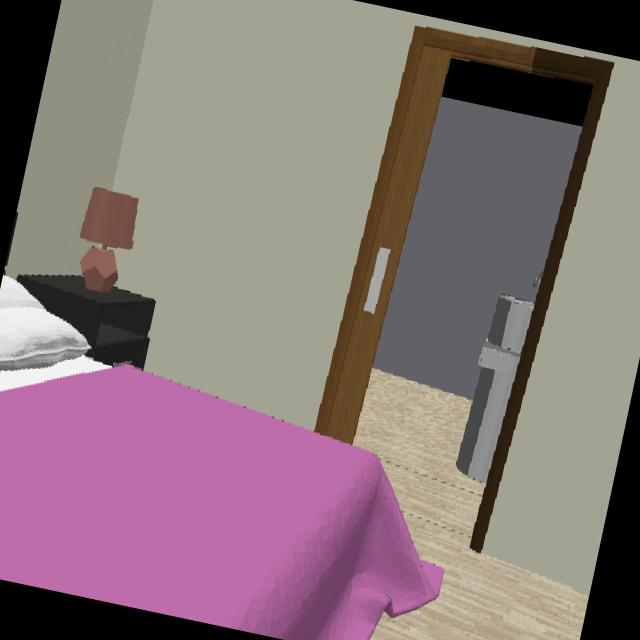bed: (0, 365, 441, 640)
lamp: (80, 187, 139, 293)
nighttable: (18, 275, 154, 368)
pillow: (0, 276, 89, 370)
